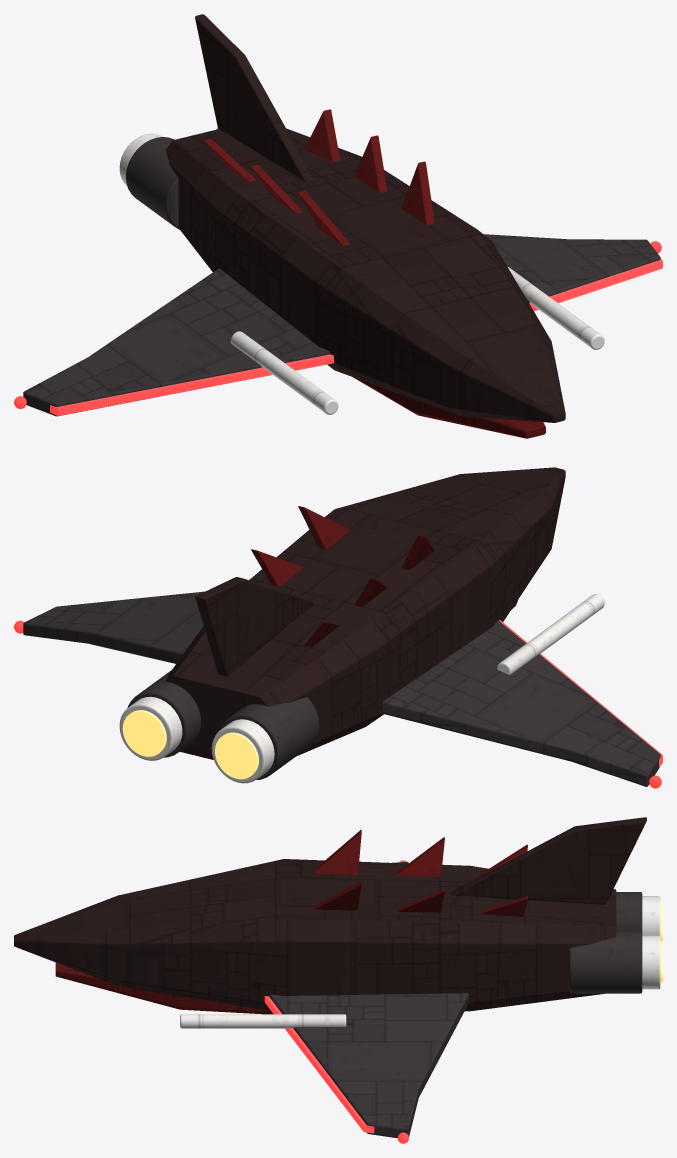
Rendered from krell_raider.glb.
The picture shows the model from 3 angles, top to bottom: view 1: azimuth 30°, elevation 25°; view 2: azimuth 150°, elevation 25°; view 3: azimuth 270°, elevation 25°; orthographic projection. The views are drawn at different scales.
Visible parts, largest first — view 1: Hull, BladeR, TailFin, BladeL, NacelleR, BladeEdgeR, Jaw, GunR, GunL, SpikeL0, BladeEdgeL, SpikeL1 (+3 smaller); view 2: Hull, BladeR, BladeL, TailFin, NacelleR, GunR, NacelleL, ExhaustL, ExhaustR, NozzleR, NozzleL, SpikeL0 (+2 smaller); view 3: Hull, BladeL, TailFin, NacelleL, GunL, Jaw, BladeEdgeL, SpikeR0, NacelleR, NozzleL, SpikeR1, SpikeL0 (+3 smaller).
Boxes of the visible parts, x1=… form: Hull: x1=165, y1=128, x2=565, y2=422; BladeR: x1=23, y1=268, x2=330, y2=416; TailFin: x1=195, y1=14, x2=314, y2=181; BladeL: x1=484, y1=234, x2=660, y2=302; NacelleR: x1=126, y1=137, x2=179, y2=229; BladeEdgeR: x1=50, y1=354, x2=333, y2=415; Jaw: x1=353, y1=377, x2=545, y2=438; GunR: x1=230, y1=331, x2=338, y2=414; GunL: x1=508, y1=267, x2=604, y2=349; SpikeL0: x1=401, y1=161, x2=434, y2=225; BladeEdgeL: x1=529, y1=258, x2=662, y2=311; SpikeL1: x1=354, y1=135, x2=387, y2=192; Hull: x1=165, y1=467, x2=565, y2=759; BladeR: x1=382, y1=620, x2=660, y2=786; BladeL: x1=23, y1=591, x2=204, y2=663; TailFin: x1=195, y1=577, x2=314, y2=676; NacelleR: x1=220, y1=697, x2=319, y2=779; GunR: x1=497, y1=594, x2=604, y2=674; NacelleL: x1=127, y1=670, x2=201, y2=757; ExhaustL: x1=122, y1=710, x2=166, y2=756; ExhaustR: x1=215, y1=732, x2=258, y2=779; NozzleR: x1=211, y1=719, x2=274, y2=783; NozzleL: x1=119, y1=696, x2=182, y2=760; SpikeL0: x1=298, y1=506, x2=350, y2=549; Hull: x1=14, y1=859, x2=616, y2=1011; BladeL: x1=269, y1=993, x2=468, y2=1138; TailFin: x1=451, y1=817, x2=646, y2=904; NacelleL: x1=569, y1=931, x2=642, y2=993; GunL: x1=180, y1=1014, x2=346, y2=1028; Jaw: x1=55, y1=962, x2=273, y2=1014; BladeEdgeL: x1=264, y1=996, x2=374, y2=1133; SpikeR0: x1=313, y1=829, x2=361, y2=874; NacelleR: x1=616, y1=892, x2=642, y2=932; NozzleL: x1=642, y1=935, x2=660, y2=989; SpikeR1: x1=396, y1=837, x2=444, y2=876; SpikeL0: x1=313, y1=881, x2=361, y2=910.
Size of the model in its own units: 0.631 by 0.2003 by 0.625.
Materials: 7 (4 with a texture image).
